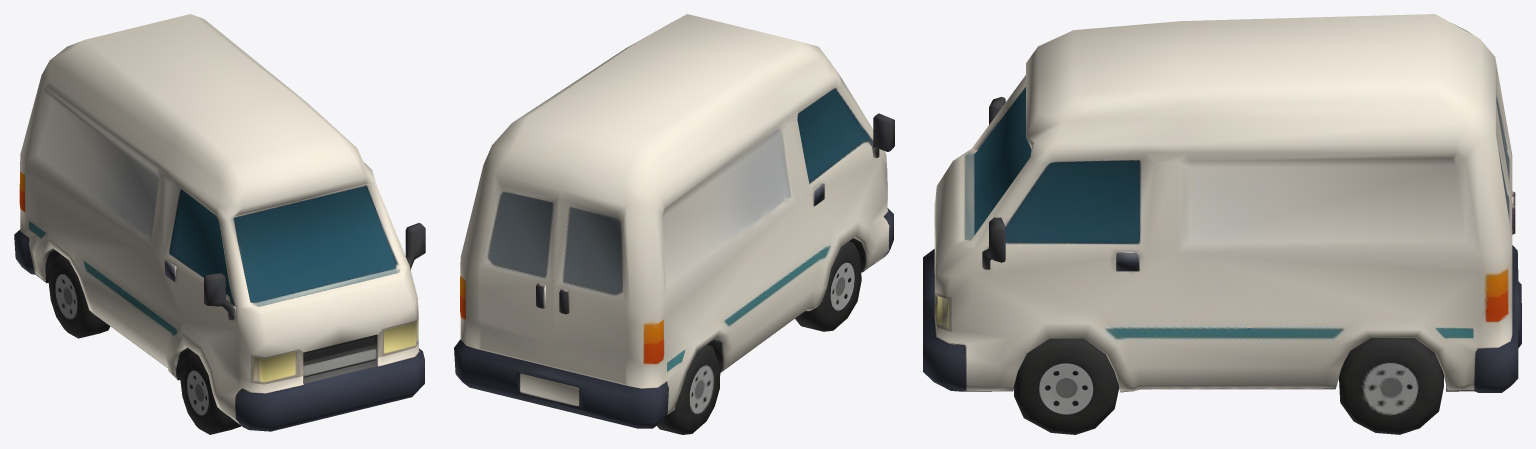
File: VEH_VAN_A01.glb
The picture shows the model from 3 angles, left to right: view 1: azimuth 30°, elevation 25°; view 2: azimuth 150°, elevation 25°; view 3: azimuth 270°, elevation 25°; orthographic projection. The views are drawn at different scales.
Visible parts, largest first — view 1: tripo_node_62241830-3db3-4bb5-9d1b-e696b5a2e19f; view 2: tripo_node_62241830-3db3-4bb5-9d1b-e696b5a2e19f; view 3: tripo_node_62241830-3db3-4bb5-9d1b-e696b5a2e19f.
Part boxes in pixels (box(x1,y1,x2,y2)): tripo_node_62241830-3db3-4bb5-9d1b-e696b5a2e19f: box(14, 14, 425, 434); tripo_node_62241830-3db3-4bb5-9d1b-e696b5a2e19f: box(454, 14, 894, 434); tripo_node_62241830-3db3-4bb5-9d1b-e696b5a2e19f: box(923, 14, 1521, 434).
Size of the model in its own units: 0.519 by 0.6235 by 0.9995.
Materials: 1 (1 with a texture image).
